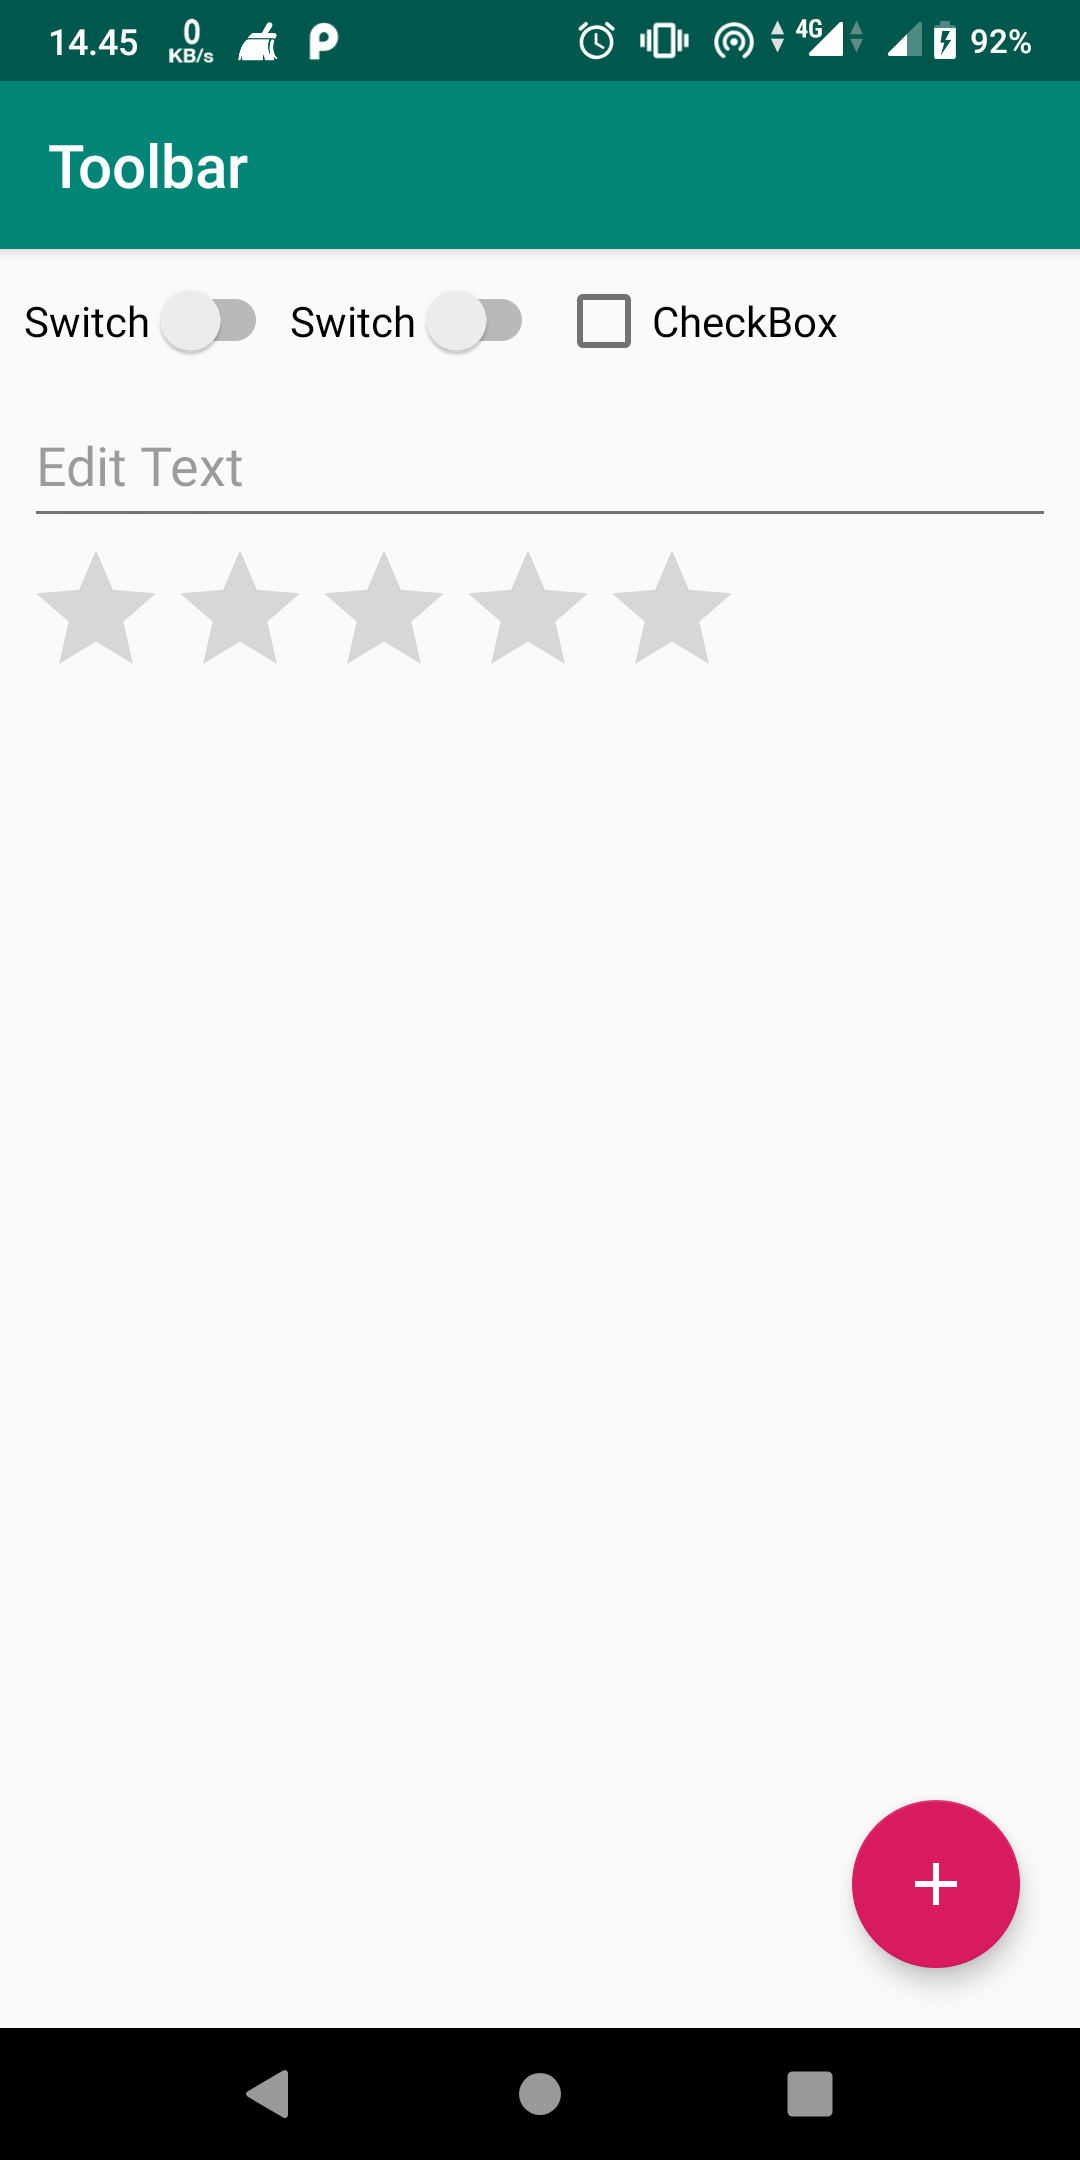checkBox: (572, 287, 843, 357)
editText: (23, 435, 1055, 534)
floatingButton: (843, 1787, 1030, 1977)
ratingBar: (30, 551, 733, 667)
switch: (17, 296, 276, 357), (288, 296, 530, 357)
toolbar: (1, 77, 1080, 247)
